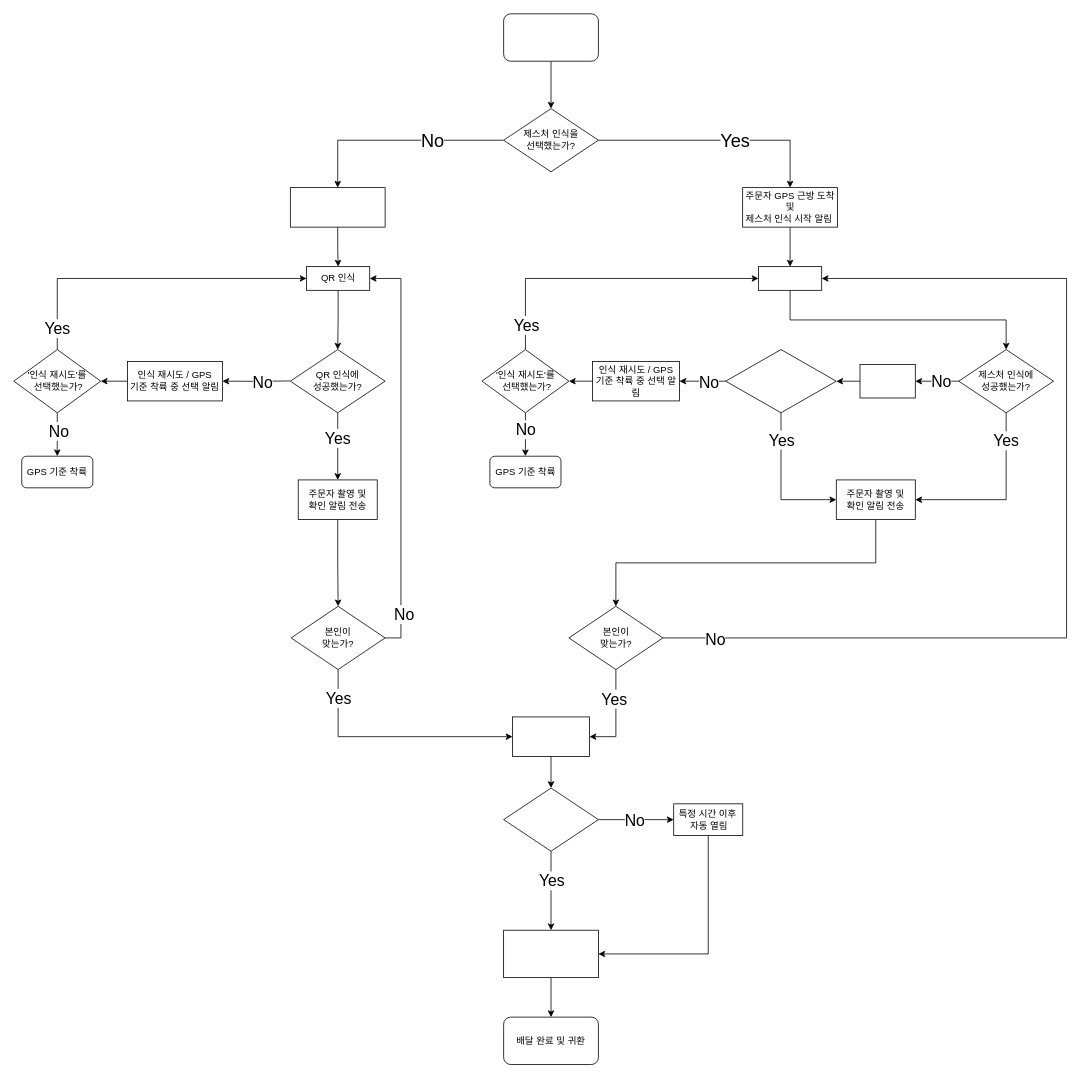
Some shapes in this 1087 by 1078 pixel diagram are drawn without their labels. Here are the shapes that lost their labels. From the top down, the centre of each, then its label:
point 550,37: 주문자의 인식 방법 선택
point 337,207: 주문자 GPS 근방 도착 및 QR 인식 시작 알림
point 790,278: 제스처 인식
point 780,381: 2차 제스처 인증에 성공했는가?
point 887,381: 2차 제스처 전송
point 550,736: 물건 수령 준비 확인 알림 전송
point 550,819: "확인"을 눌렀는가?
point 550,953: 물품 수령 및 물건 수령 확인 알림 전송
